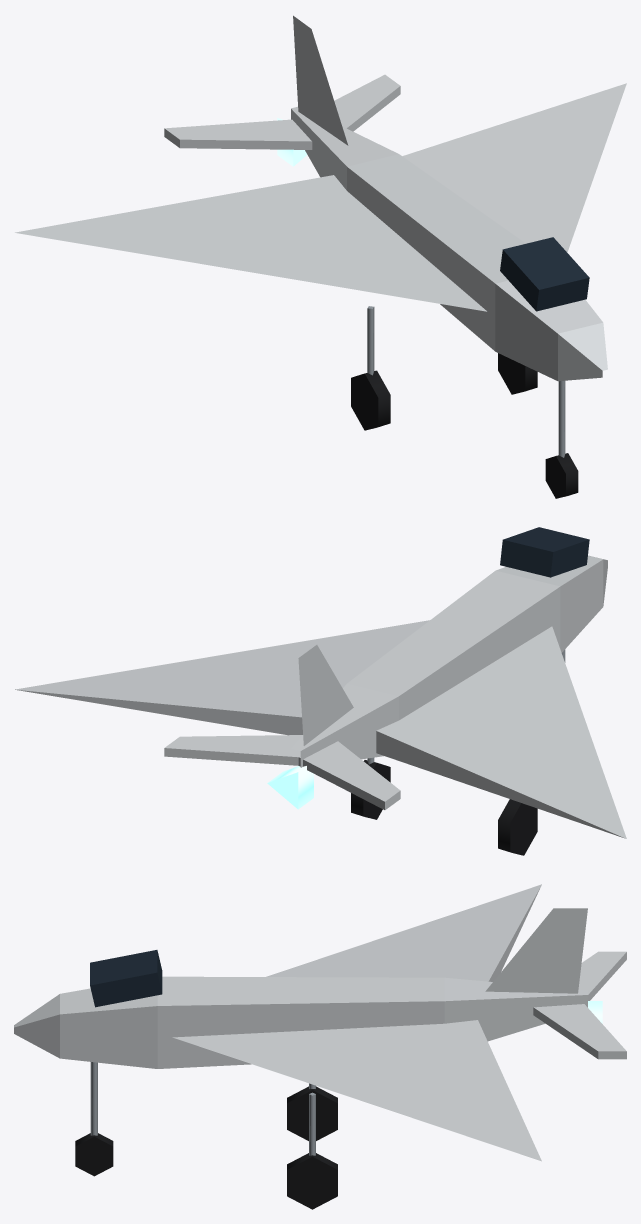
The model's file is veh_air_fighter_a09_lod2.glb.
3 views of the same model, one above another, from view 1: azimuth 30°, elevation 25°; view 2: azimuth 150°, elevation 25°; view 3: azimuth 270°, elevation 25° (orthographic). The views are drawn at different scales.
Visible parts, largest first — view 1: body, gear_1, gear_0, gear_2; view 2: body, gear_1, gear_2; view 3: body, gear_2, gear_1, gear_0.
Boxes of the visible parts, left/top/right/bottom form: body: left=15, top=15, right=626, bottom=381; gear_1: left=351, top=306, right=390, bottom=430; gear_0: left=545, top=380, right=578, bottom=498; gear_2: left=498, top=353, right=537, bottom=394; body: left=15, top=527, right=626, bottom=838; gear_1: left=498, top=799, right=537, bottom=855; gear_2: left=351, top=757, right=390, bottom=819; body: left=14, top=884, right=626, bottom=1161; gear_2: left=287, top=1092, right=337, bottom=1209; gear_1: left=287, top=1083, right=337, bottom=1140; gear_0: left=75, top=1062, right=113, bottom=1176.
Bounding box in the file's own units: 8.96 × 4.02 × 8.37.
